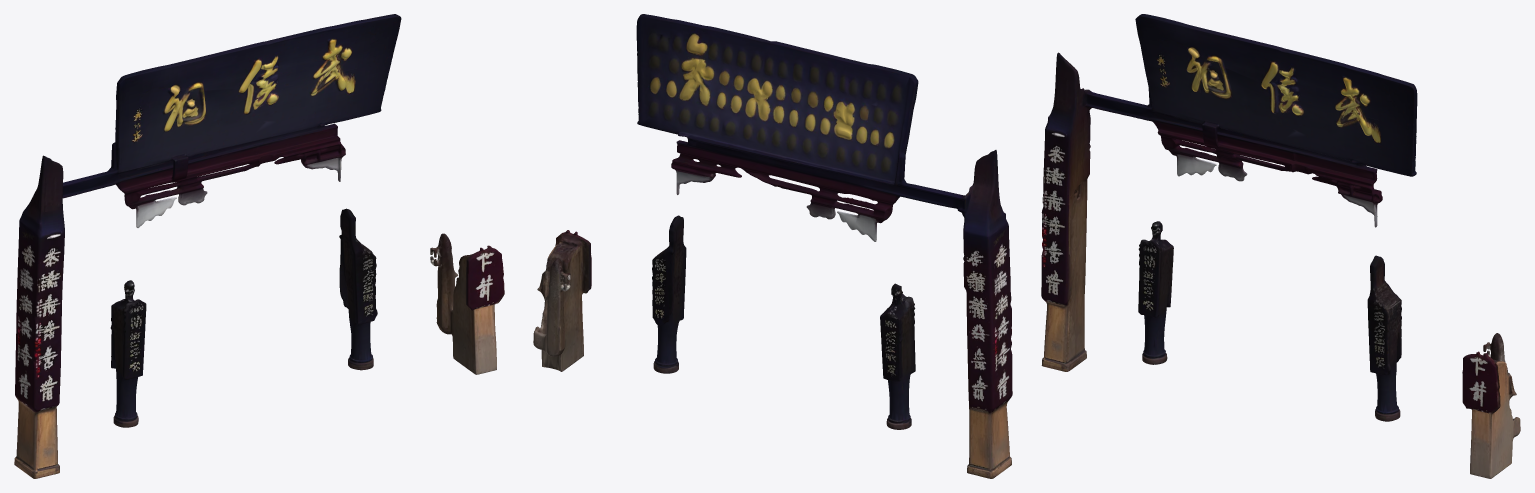
File: wuhouci.glb
3 views of the same model, side by side, from view 1: azimuth 30°, elevation 25°; view 2: azimuth 150°, elevation 25°; view 3: azimuth 330°, elevation 25° (orthographic).
Visible parts, largest first — view 1: node_0; view 2: node_0; view 3: node_0.
Part boxes in pixels (left/top/right/bottom): node_0: left=14, top=14, right=504, bottom=478; node_0: left=533, top=14, right=1012, bottom=478; node_0: left=1041, top=14, right=1520, bottom=478.
Bounding box in the file's own units: 0.9508 × 0.7306 × 0.1155.
1 material, 1 textured.
